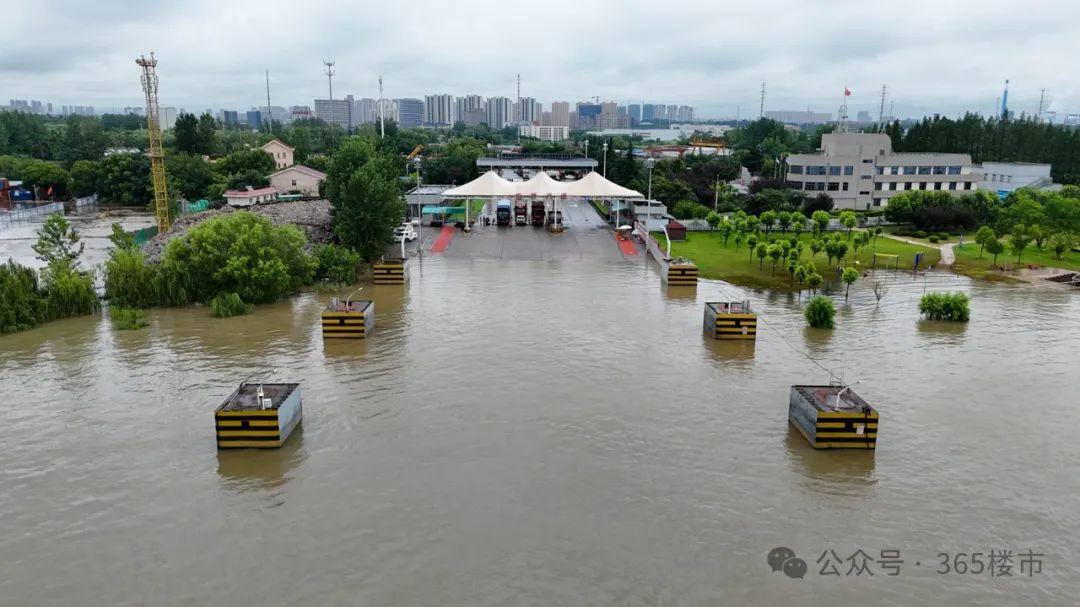puddle: (50, 278, 1075, 607)
